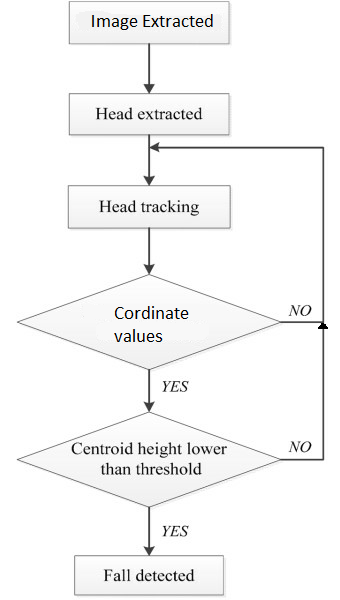arrow: (148, 141, 327, 321), (281, 321, 327, 463), (142, 134, 156, 185), (143, 41, 156, 93), (143, 227, 156, 276), (143, 368, 156, 413), (144, 507, 155, 556)
decision: (17, 273, 285, 369), (17, 411, 282, 508)
process: (65, 181, 234, 233), (66, 91, 233, 138), (66, 1, 233, 46), (71, 553, 226, 598)
text: (71, 440, 226, 477), (113, 303, 190, 349), (88, 11, 217, 33), (97, 197, 199, 218), (95, 105, 203, 123), (100, 566, 196, 584), (160, 377, 190, 395), (160, 522, 189, 540), (287, 301, 314, 319), (287, 437, 314, 455)
